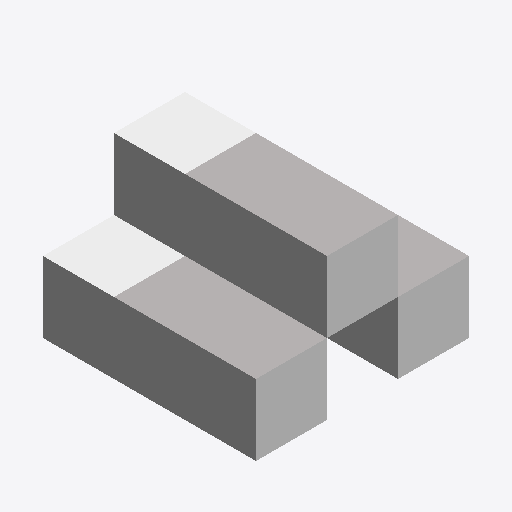
A Minecraft block model of 3 cuboids, rendered isometrically (azimuth 45°, elevation 35.3°) with the resource pack's own textures.
Parts seen in each view (by area): element 1, element 3, element 2.
Part boxes in pixels (left/top/right/bottom): element 1: left=114, top=92, right=397, bottom=337; element 3: left=43, top=215, right=326, bottom=460; element 2: left=328, top=215, right=468, bottom=378.
Bounding box in the file's own units: 3 × 2 × 3.